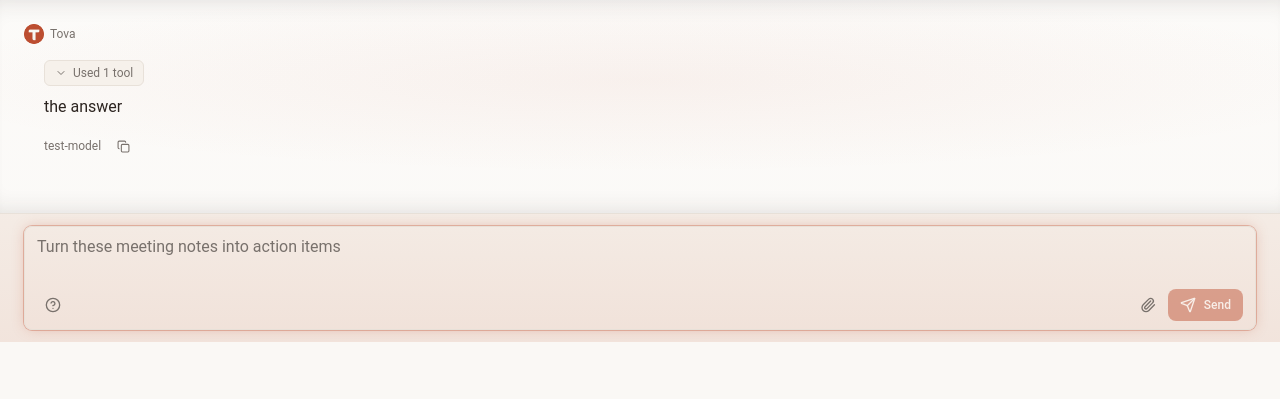
Test: Tool-use summary box (issue #196) › shows the carried query and status in a resolved chip detail (#196, D4)
What coordinates should you click on to do the following:
click the button with test id "tool-summary-toggle"
I would click on:
 (94, 73)
Its box is [44,60,144,86].
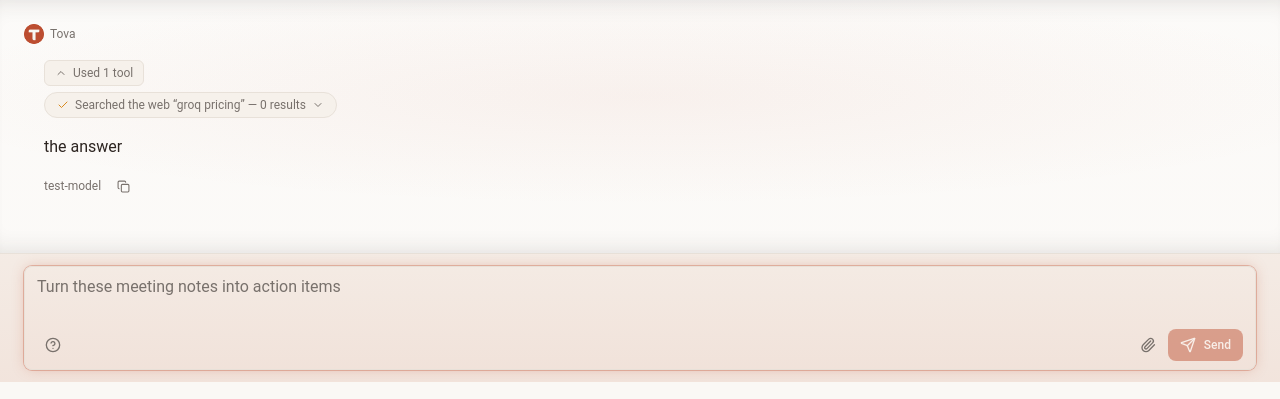
What coordinates should you click on to do the following:
click the button "Searched the web “groq pricing” — 0 results"
I would click on:
 (190, 105)
Its box is [44,92,337,118].
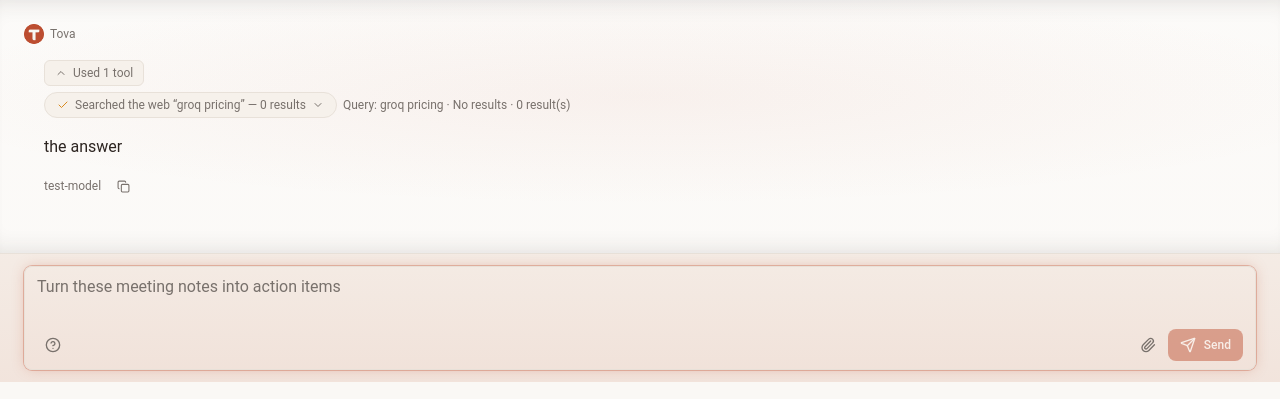
Check: the text with test id "tool-detail" shows "Query: groq pricing", box [343,98,570,112]
Check: the text with test id "tool-detail" shows "No results", box [343,98,570,112]
